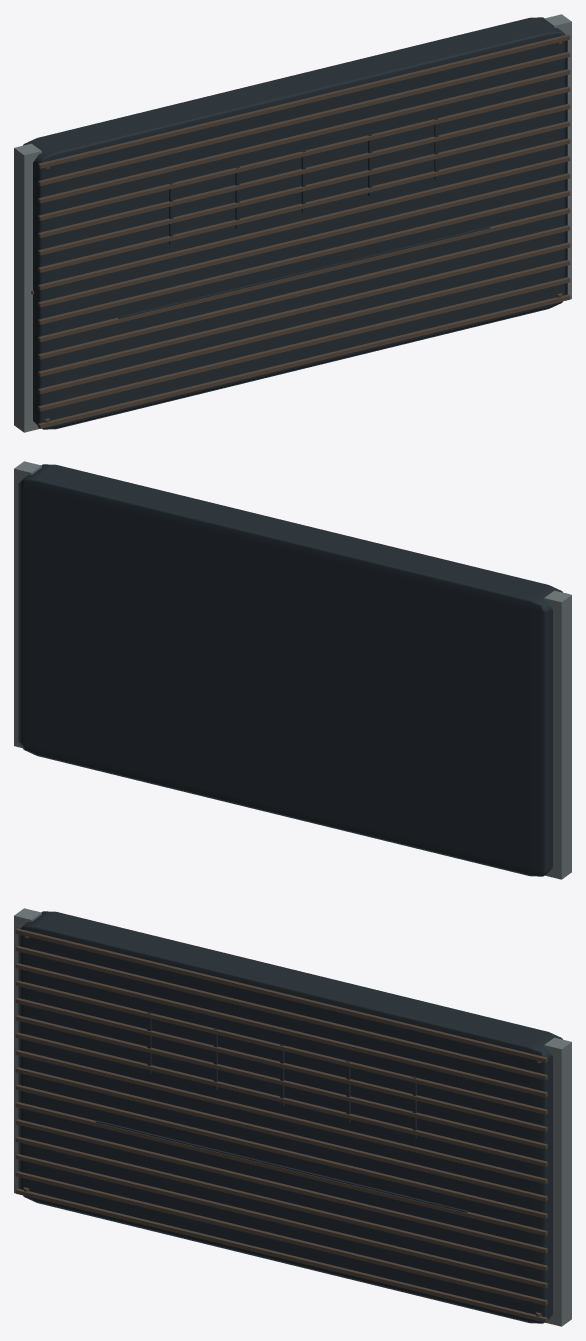
File: roller-shutter-2.glb
3 renders of one model, top to bottom at view 1: azimuth 30°, elevation 25°; view 2: azimuth 150°, elevation 25°; view 3: azimuth 330°, elevation 25°, orthographic.
Visible parts, largest first — view 1: roller-shutter/1/KR-230-2; view 2: roller-shutter/1/KR-230-2; view 3: roller-shutter/1/KR-230-2.
Boxes of the visible parts, <box> form: roller-shutter/1/KR-230-2: <box>14,14,571,432</box>; roller-shutter/1/KR-230-2: <box>14,461,571,879</box>; roller-shutter/1/KR-230-2: <box>14,908,571,1326</box>.
Bounding box in the file's own units: 6.2 × 3 × 0.44.
